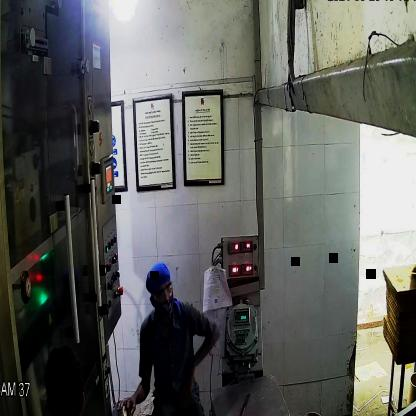goggles: (148, 281, 173, 304)
